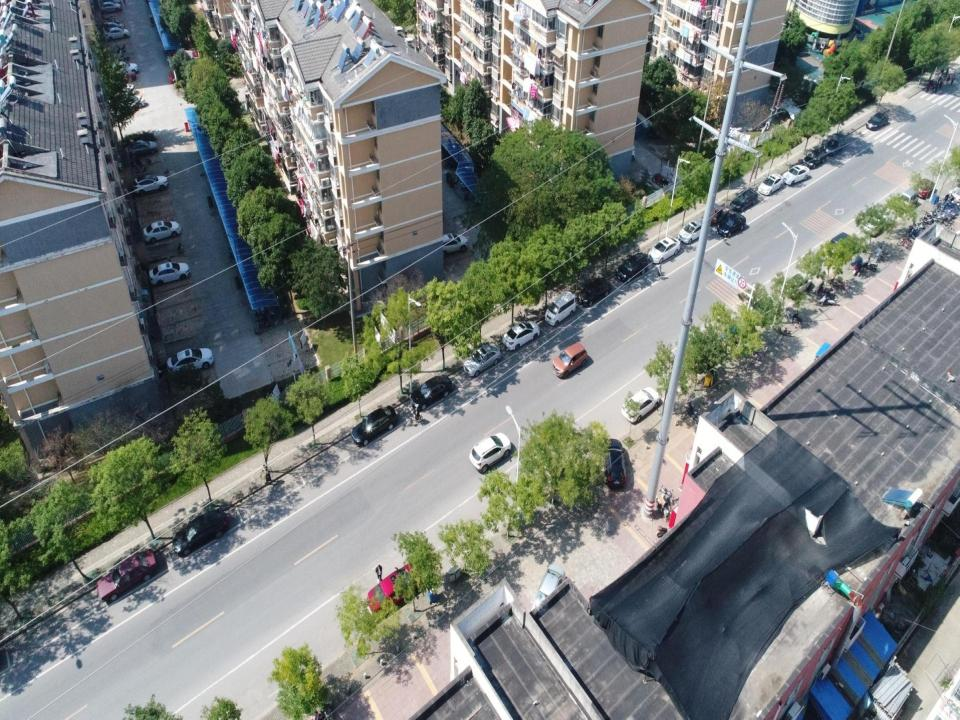car: (96, 548, 158, 602), (366, 561, 423, 615), (172, 506, 229, 557), (351, 405, 398, 447), (530, 563, 566, 615), (469, 432, 511, 474), (409, 374, 452, 411), (621, 386, 660, 424), (166, 347, 215, 377), (552, 341, 588, 380), (462, 342, 502, 377), (603, 438, 627, 488), (502, 320, 540, 351), (576, 276, 612, 308), (148, 261, 192, 287), (142, 219, 182, 245), (615, 252, 648, 283), (647, 236, 681, 264), (721, 320, 756, 347), (783, 268, 812, 300), (747, 294, 780, 322), (132, 172, 168, 197), (436, 232, 468, 258), (125, 138, 159, 161), (717, 212, 746, 238), (678, 219, 706, 245), (862, 208, 886, 238), (109, 94, 139, 116), (828, 231, 852, 258), (730, 188, 758, 211), (781, 164, 810, 186), (758, 172, 784, 196), (825, 133, 847, 158), (103, 81, 134, 98), (112, 60, 139, 79), (803, 148, 827, 169), (915, 177, 935, 200), (866, 111, 888, 131), (103, 26, 130, 42), (119, 93, 146, 109), (112, 69, 137, 83), (100, 1, 122, 14), (102, 21, 125, 32), (619, 148, 636, 162)
van: (544, 291, 576, 327), (898, 187, 919, 211)
